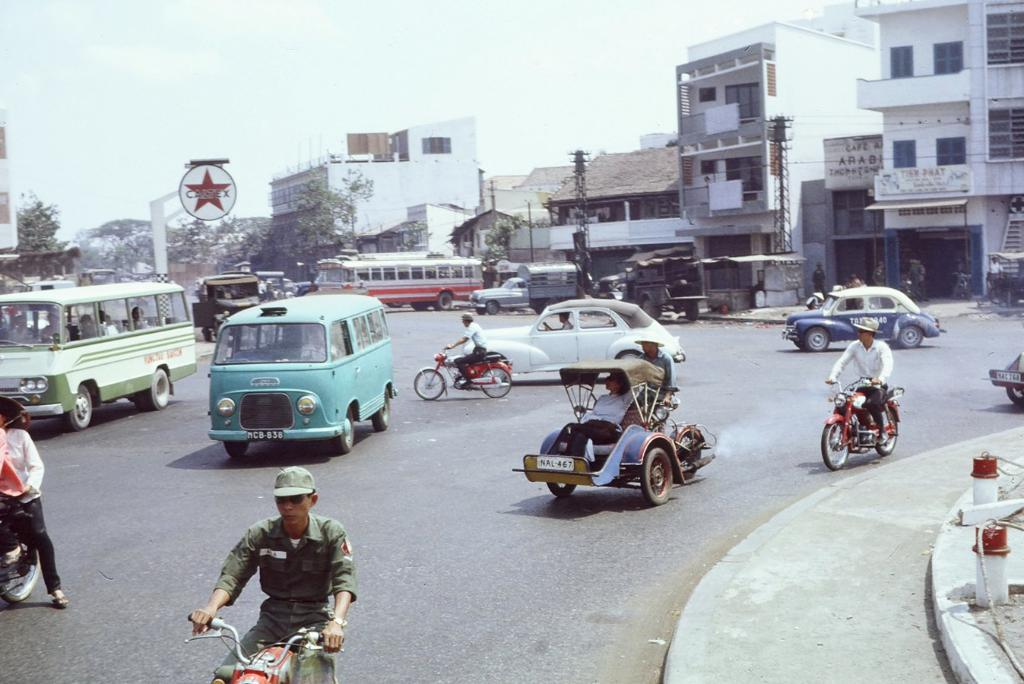cars: (463, 288, 684, 383), (776, 286, 941, 360), (990, 348, 1023, 406)
